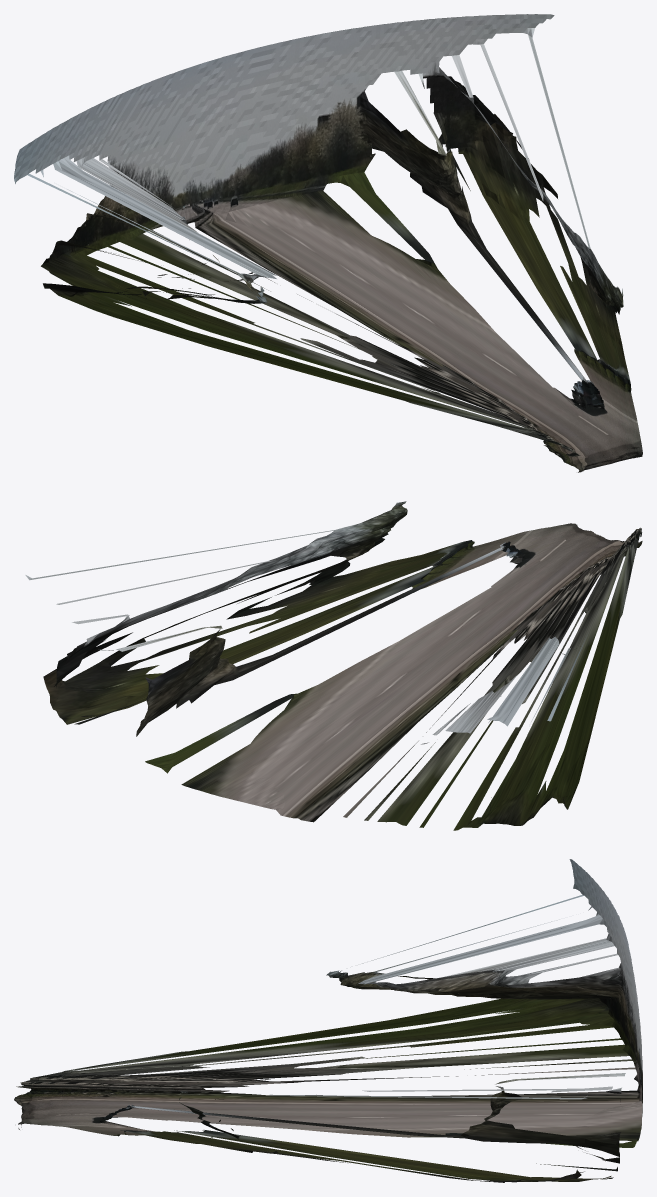
3 renders of one model, top to bottom at view 1: azimuth 30°, elevation 25°; view 2: azimuth 150°, elevation 25°; view 3: azimuth 270°, elevation 25°, orthographic. The views are drawn at different scales.
Parts seen in each view (by area): view 1: defaultobject; view 2: defaultobject; view 3: defaultobject.
Boxes of the visible parts, x1,y1,x2,y2 form: defaultobject: [14, 14, 642, 472]; defaultobject: [25, 501, 642, 830]; defaultobject: [14, 859, 642, 1182].
Bounding box in the file's own units: 39.34 × 11.74 × 44.64.
1 material, 1 textured.
